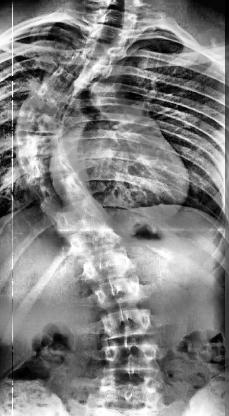Vertebrae: (97, 308, 154, 344), (29, 174, 85, 210), (54, 196, 104, 235), (76, 250, 132, 282), (46, 70, 91, 104), (104, 340, 162, 366), (92, 276, 139, 308), (18, 112, 67, 142), (22, 155, 74, 183), (27, 87, 75, 117), (68, 224, 118, 252), (17, 134, 69, 160), (101, 368, 161, 390), (65, 50, 105, 80), (79, 38, 119, 66), (92, 23, 128, 45)
